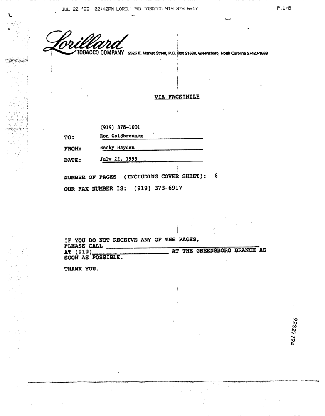textline: (105, 243, 260, 249), (99, 133, 204, 140), (99, 144, 204, 151), (99, 156, 203, 163), (92, 248, 170, 255)
